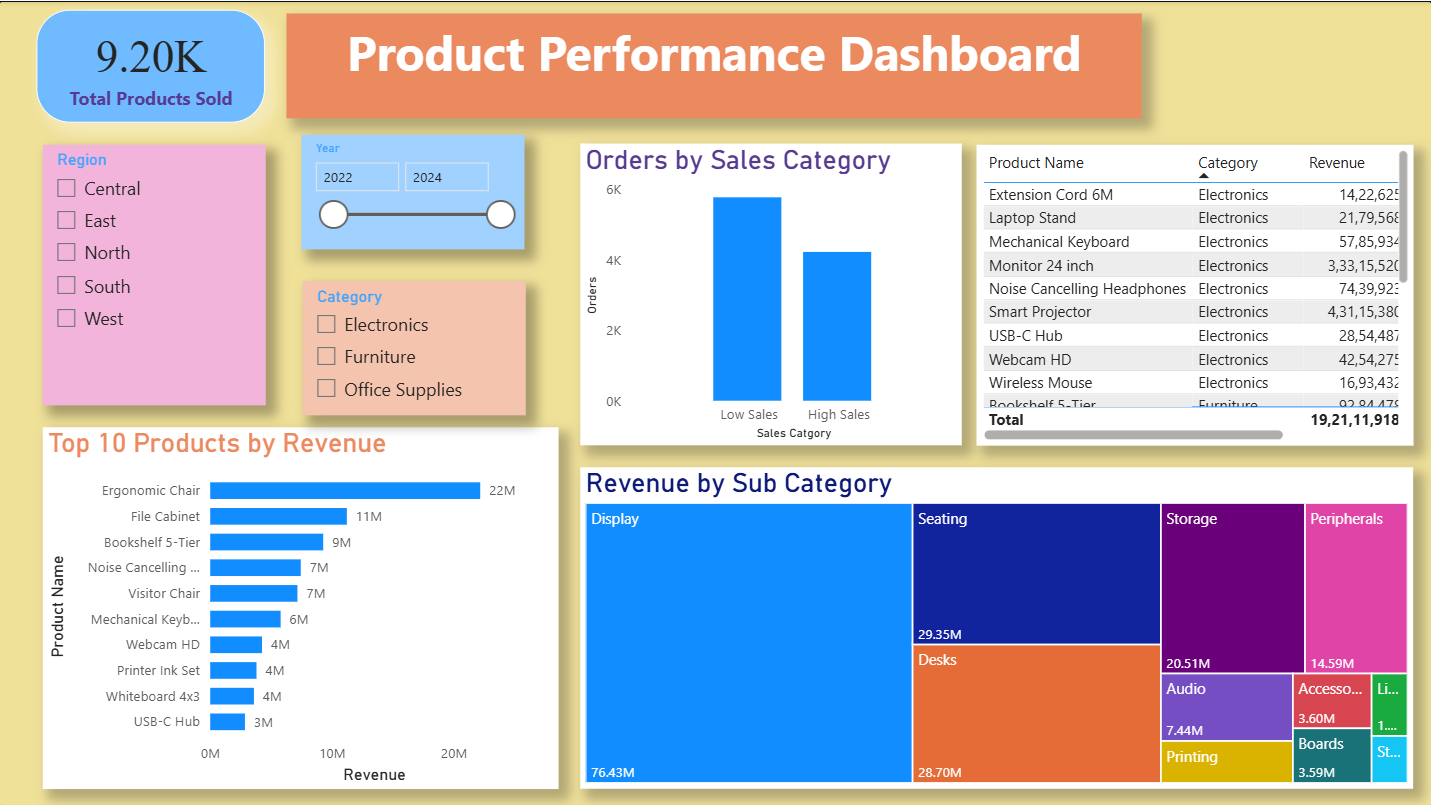

The dashboard page shown, as its layout file describes it:
{"tool":"powerbi","page":{"name":"Product Performance Dashboard","canvas":[1280,720],"ordinal":1},"visuals":[{"type":"textbox","box":[256.6,11,764.3,93.3],"z":0},{"type":"columnChart","title":"Orders by Sales Category","fields":{"Category":["Orders.Sales Catgory"],"Y":["Count(Orders.Order ID)"]},"box":[519.8,126.7,340.7,269.8],"z":1000},{"type":"clusteredBarChart","title":" Top 10 Products by Revenue","fields":{"Category":["Orders.Product Name"],"Y":["Sum(Orders.Sales Amount)"]},"box":[39.5,380.2,460.5,323.3],"z":2000},{"type":"treemap","title":"Revenue by Sub Category","fields":{"Group":["Orders.Sub-Category"],"Values":["Sum(Orders.Sales Amount)"]},"box":[519.8,416.3,744.2,287.2],"z":3000},{"type":"tableEx","fields":{"Values":["Orders.Product Name","Orders.Category","Sum(Orders.Sales Amount)","Orders.Order ID"]},"box":[873.3,127.9,390.7,268.6],"z":4000},{"type":"slicer","fields":{"Values":["Orders.Region"]},"box":[39.5,127.9,198.8,232.6],"z":5000},{"type":"slicer","fields":{"Values":["Returns.Return Date.Variation.Date Hierarchy.Year"]},"box":[269.8,119.8,198.8,102.3],"z":6000},{"type":"slicer","fields":{"Values":["Orders.Category"]},"box":[270.9,250,198.8,119.8],"z":7000}]}

Visuals, with their boxes in screenshot pixels (x1, y1, x2, y2), scaled from the page's 1280x720 canvas onto the 1431x805 screenshot:
textbox: detection(287, 12, 1141, 117)
"Orders by Sales Category" columnChart: detection(581, 142, 962, 443)
" Top 10 Products by Revenue" clusteredBarChart: detection(44, 425, 559, 787)
"Revenue by Sub Category" treemap: detection(581, 465, 1413, 787)
tableEx - Orders.Product Name x Orders.Category: detection(976, 143, 1413, 443)
slicer - Orders.Region: detection(44, 143, 266, 403)
slicer - Returns.Return Date.Variation.Date Hierarchy.Year: detection(302, 134, 524, 248)
slicer - Orders.Category: detection(303, 280, 525, 413)
